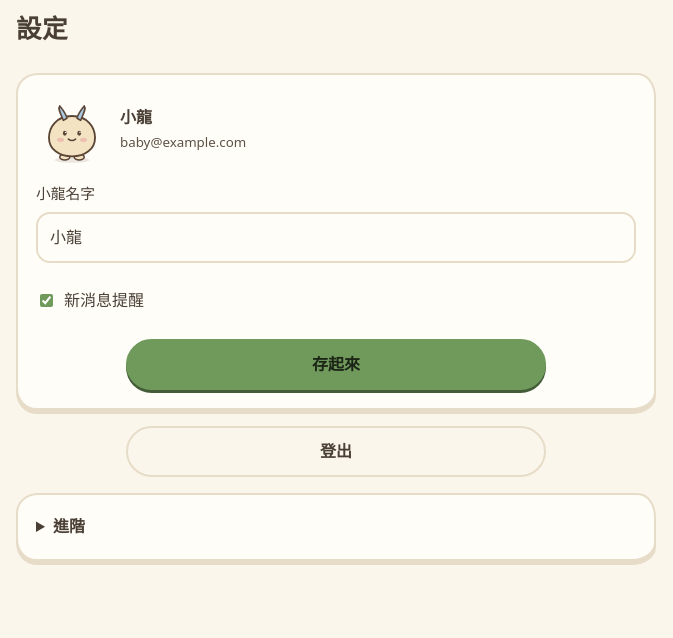
Test: LW-11 settings action errors › 提醒開關失敗時把勾選還原，並提示再按一次
The width and height of the screenshot is (673, 638).
Click the checkbox labelled "新消息提醒" at (46, 301), box left=40, top=294, right=53, bottom=308
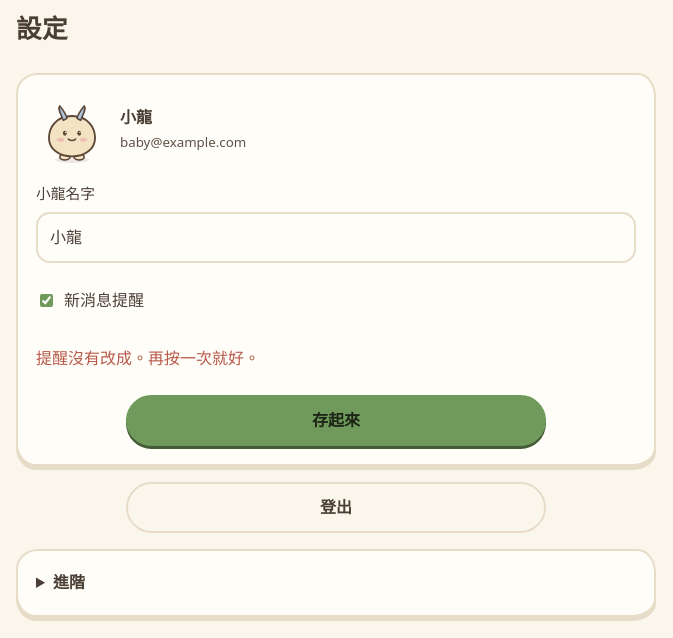
Expected: the message reads "提醒沒有改成。再按一次就好。", left=36, top=347, right=260, bottom=369
